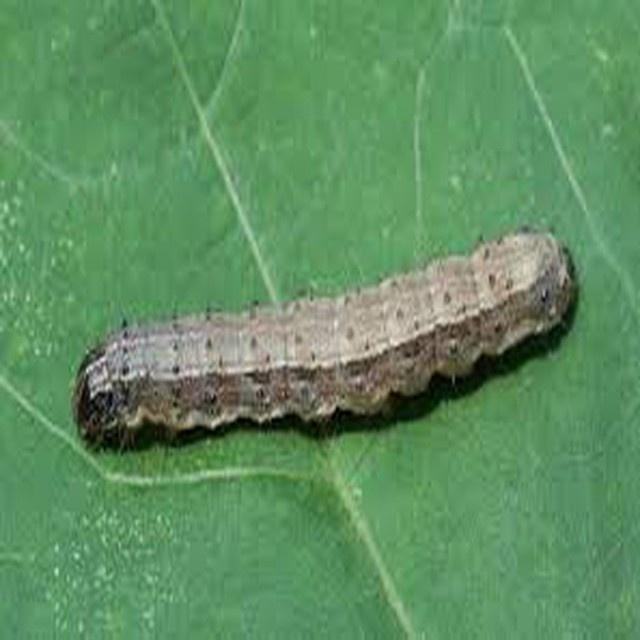gusano_cogollero: (75, 228, 578, 442)
